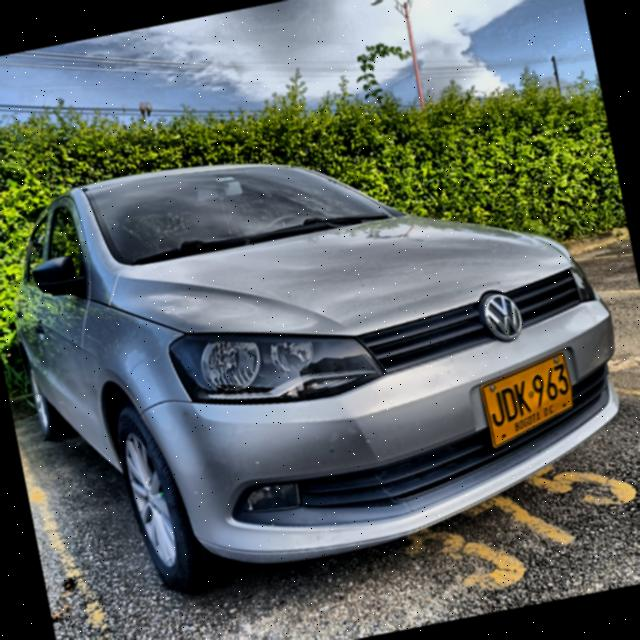plate: (481, 353, 573, 446)
